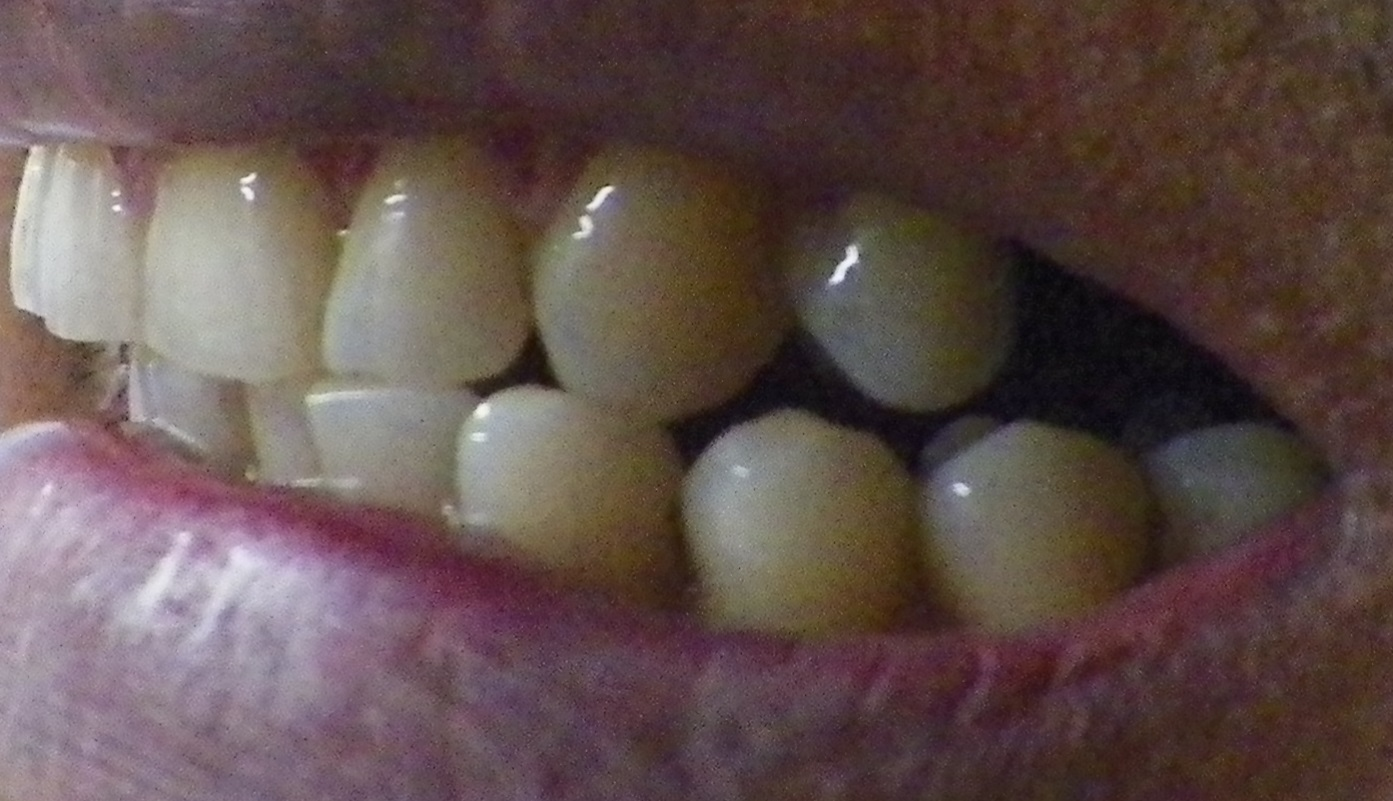boca: (12, 141, 1285, 639)
